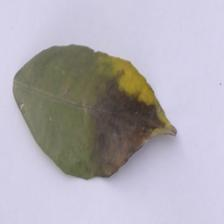black spot: (96, 69, 166, 168)
